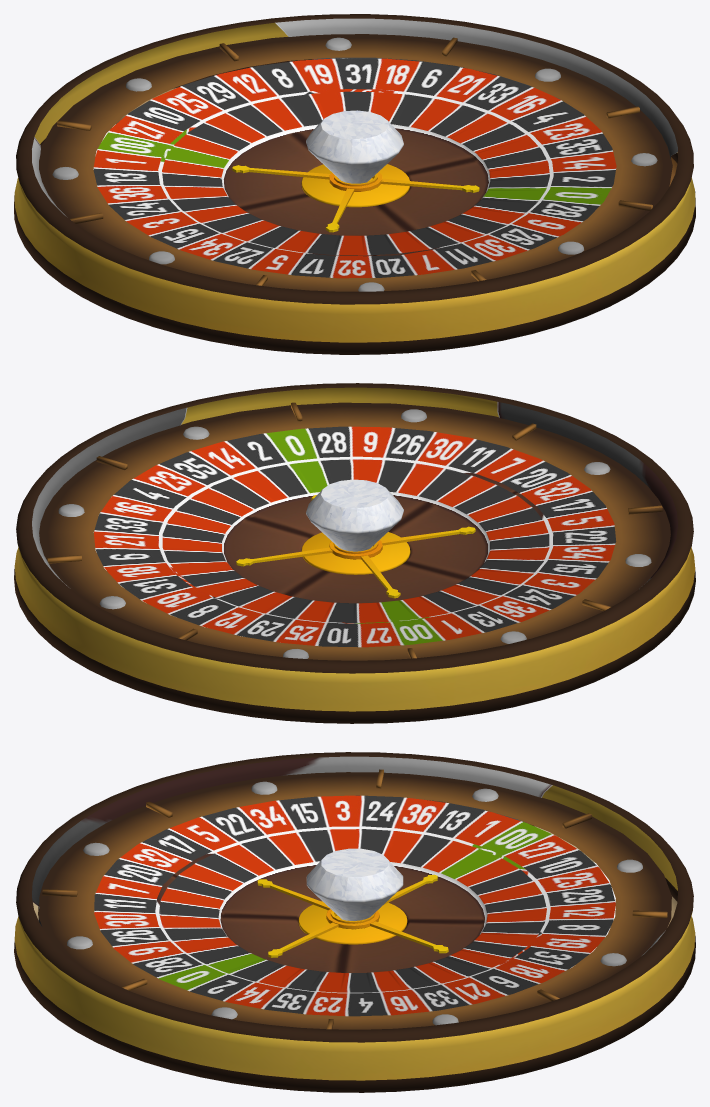
Rendered from roundar.fbx.
The picture shows the model from 3 angles, top to bottom: view 1: azimuth 30°, elevation 25°; view 2: azimuth 150°, elevation 25°; view 3: azimuth 270°, elevation 25°; orthographic projection.
Parts seen in each view (by area): view 1: Outer, Inner, Diamond; view 2: Outer, Inner, Diamond; view 3: Outer, Inner, Diamond.
Boxes of the visible parts, x1,y1,x2,y2 form: Outer: (14, 14, 695, 354); Inner: (93, 58, 616, 278); Diamond: (306, 110, 403, 183); Outer: (14, 383, 695, 723); Inner: (94, 426, 616, 647); Diamond: (306, 479, 403, 551); Outer: (14, 752, 695, 1092); Inner: (94, 795, 615, 1016); Diamond: (306, 848, 403, 920).
Size of the model in its own units: 34.44 by 4.84 by 34.44.
